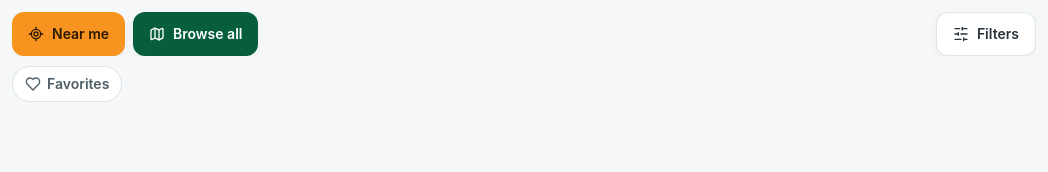
Test: Browse all (tracking stop) › stops the watcher and resets the status
Step 1. Click the button "Near me" → point(69, 34), box [12,12,125,56]
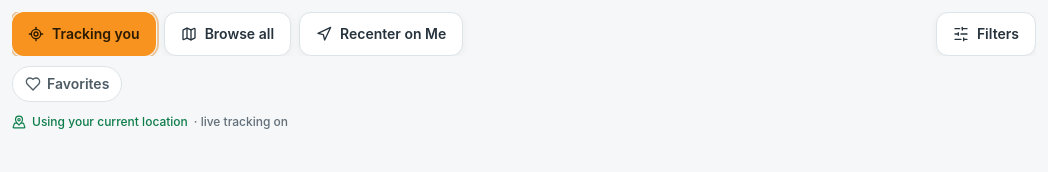
Step 2. Click the button "Browse all" → point(227, 34), box [164,12,291,56]
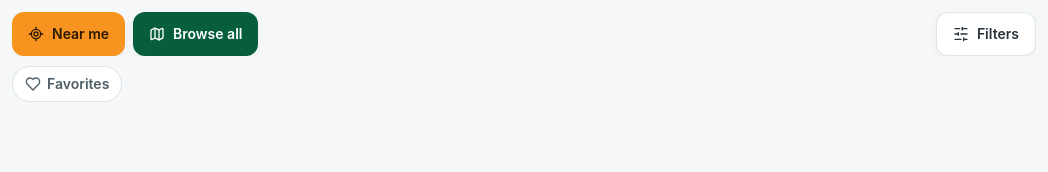
Now the button "Near me" is shown, box [12,12,125,56]
